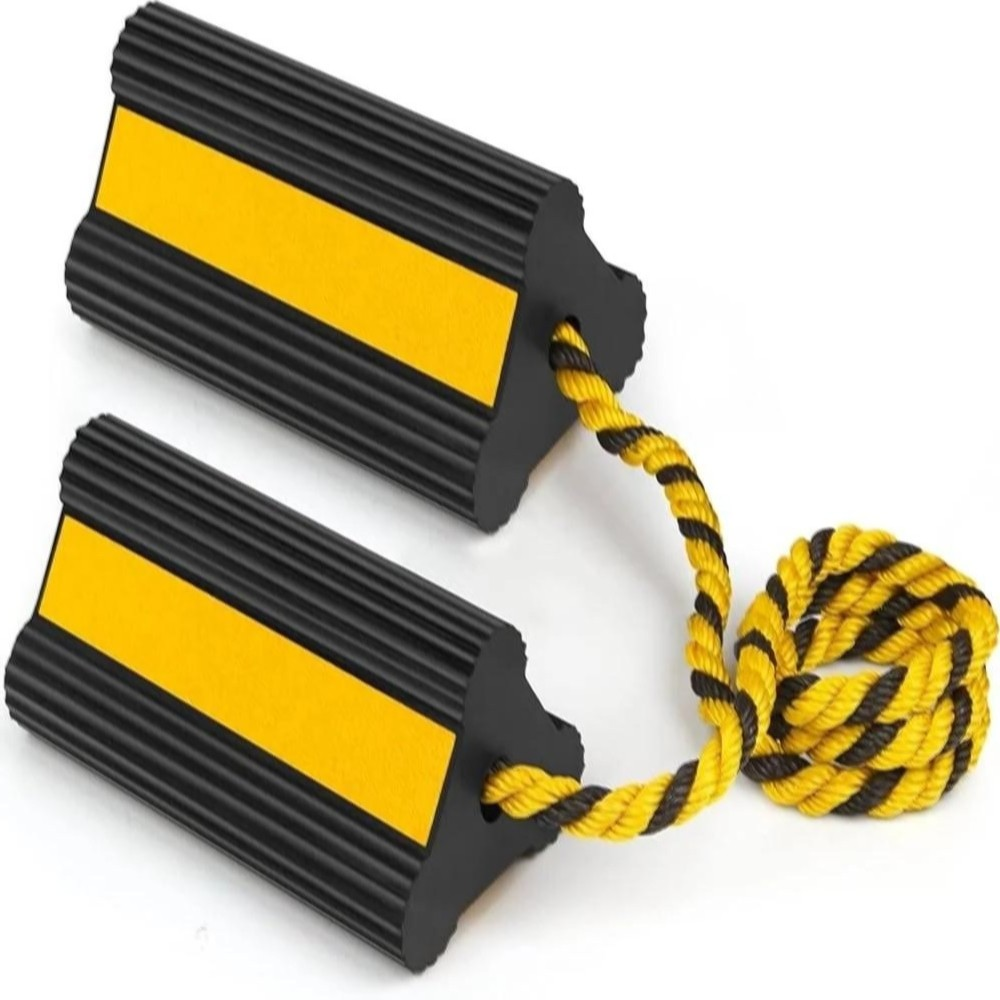chock: (0, 407, 586, 979), (61, 4, 653, 533)
